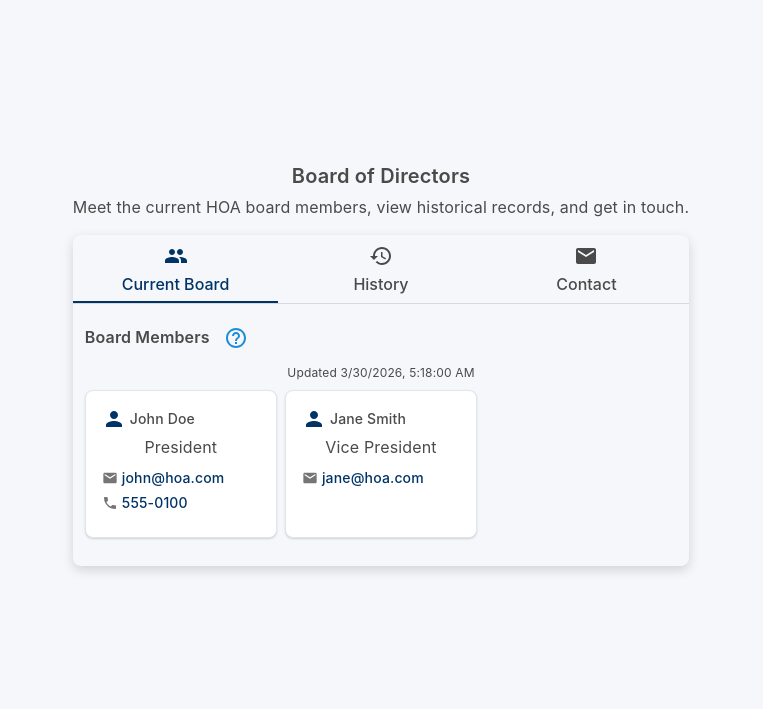
BoardPage Accessibility Tests › Contact Form Accessibility › should have proper form labels and descriptions
The width and height of the screenshot is (763, 709).
Switch to contact tab
Click the tab "Contact" at (586, 269), box [484, 235, 689, 303]
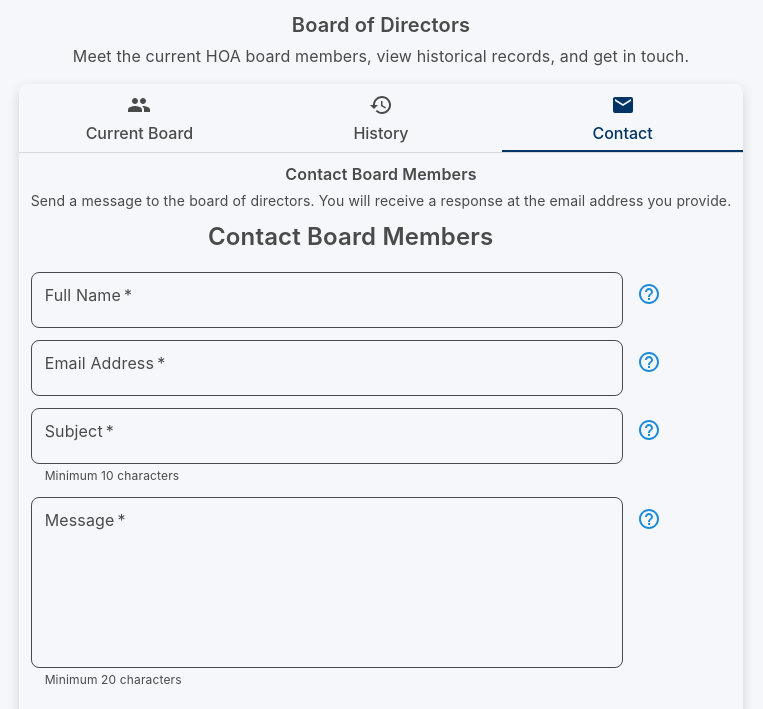
Expected: the field labelled "Full Name *" is shown, [31, 272, 623, 328]
Expected: the field labelled "Email Address *" is shown, [31, 340, 623, 396]
Expected: the field labelled "Subject *" is shown, [31, 408, 623, 464]
